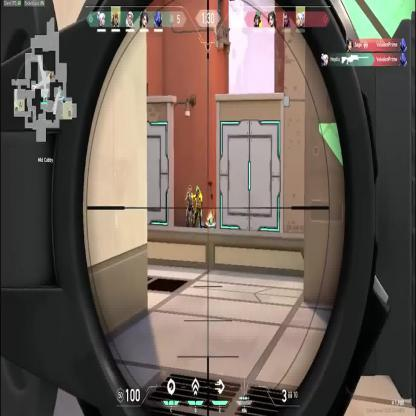enemy: (184, 182, 194, 226), (193, 186, 202, 230)
enemy_head: (188, 185, 192, 194), (196, 186, 199, 196)
